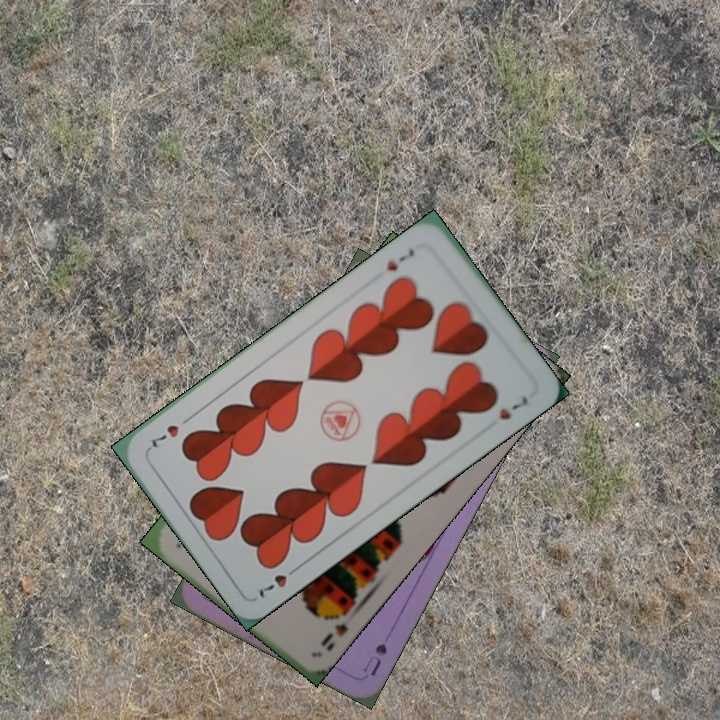H7: (255, 560, 304, 601), (382, 244, 417, 274)
S9: (316, 604, 354, 649)
SU: (358, 639, 390, 679)
